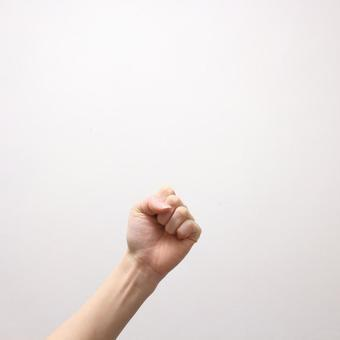gu-: (126, 186, 203, 269)
